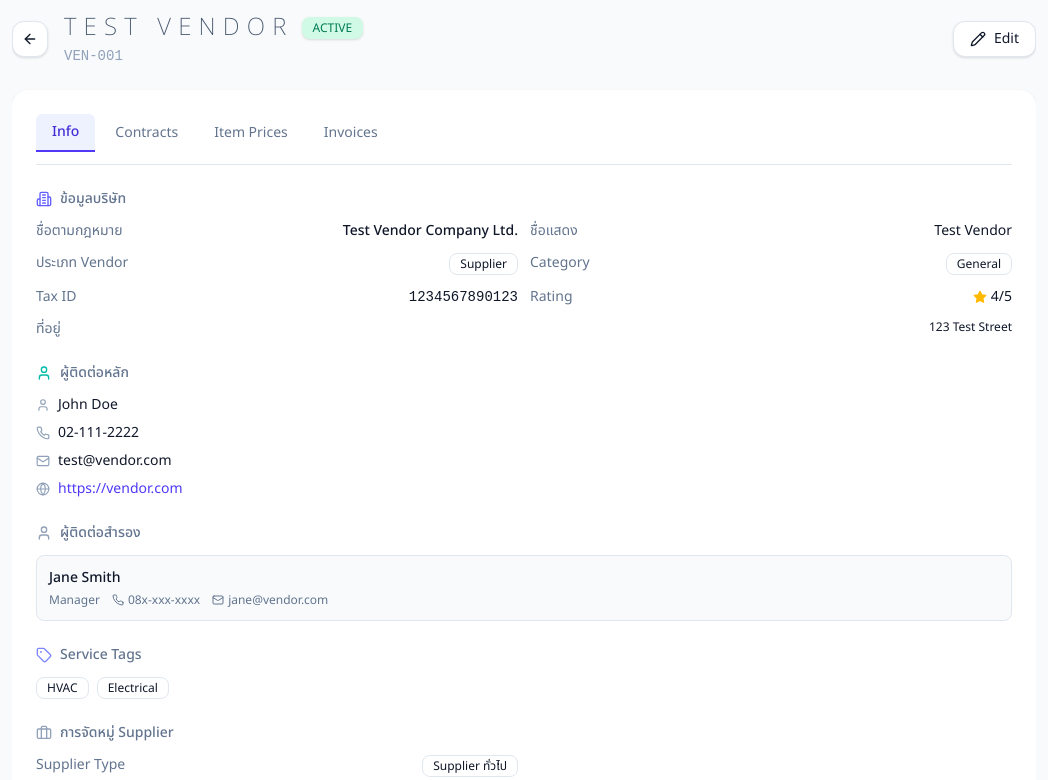
Scenario: VendorDetailPage › switches to Item Prices tab
The width and height of the screenshot is (1048, 780).
Click the button "Item Prices" at (251, 133), box [198,114,304,152]
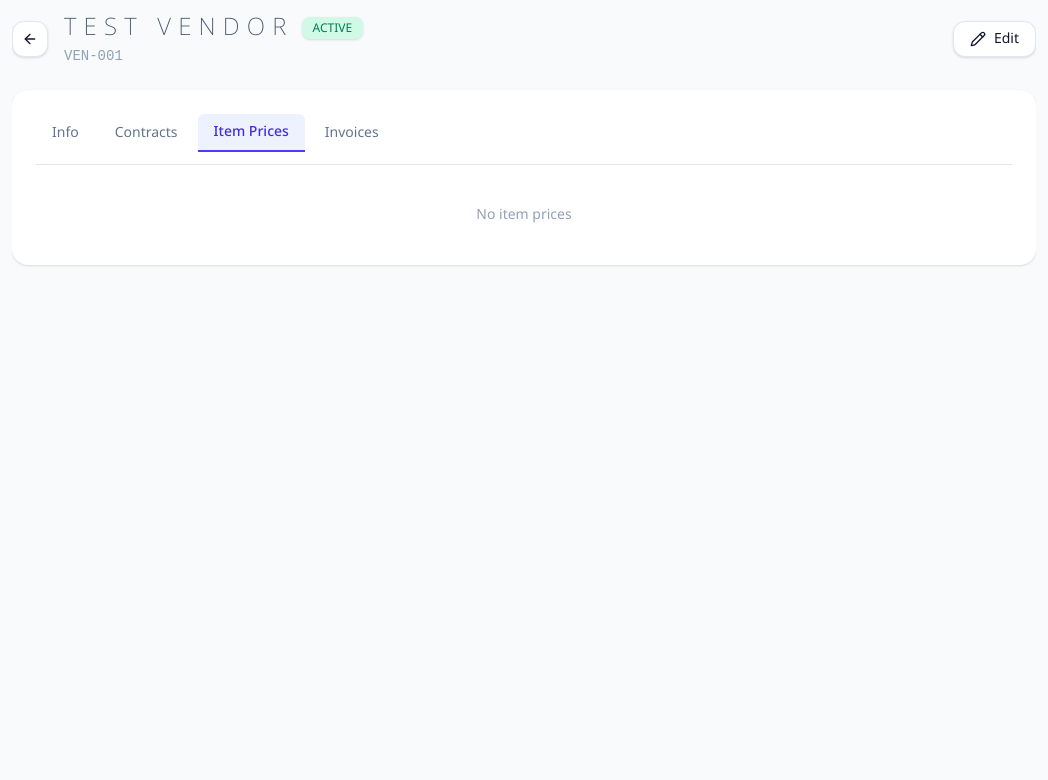
Now the text "No item prices" is shown, box [476,204,572,225]
